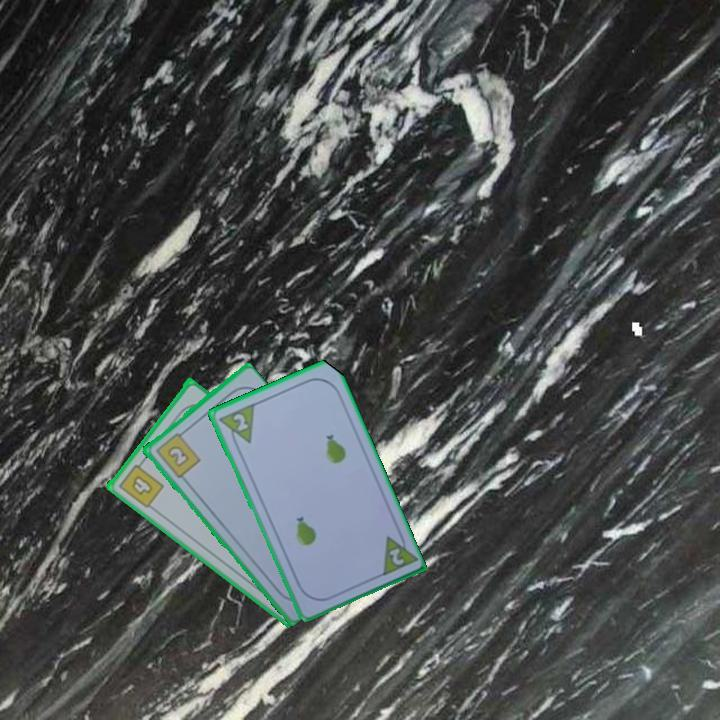2b: (152, 427, 203, 481)
2p: (215, 399, 257, 451), (385, 544, 407, 568)
4b: (115, 456, 166, 511)
